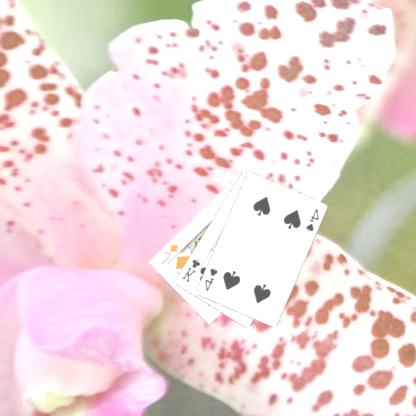4S: (204, 265, 220, 292), (305, 206, 321, 233)
JD: (159, 242, 181, 266)
KC: (181, 256, 207, 284)
